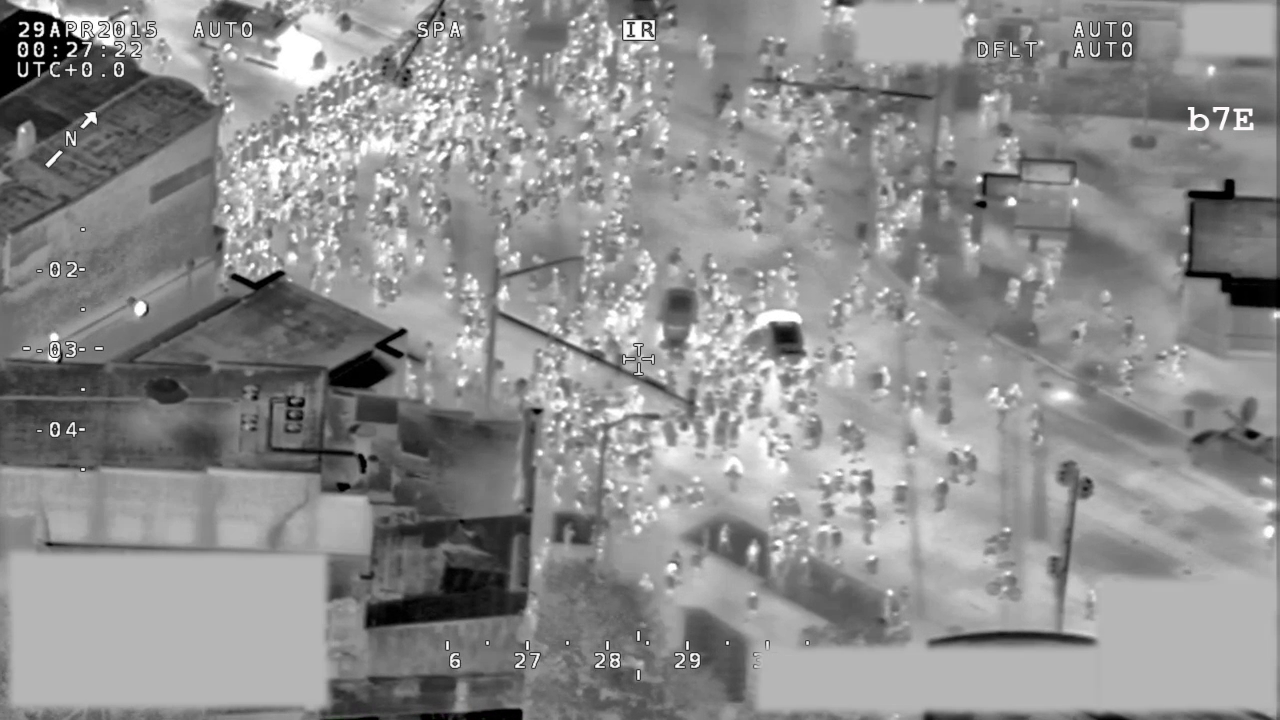vehicle: (190, 1, 339, 84), (1180, 393, 1280, 502), (749, 303, 811, 378), (654, 282, 704, 358)
